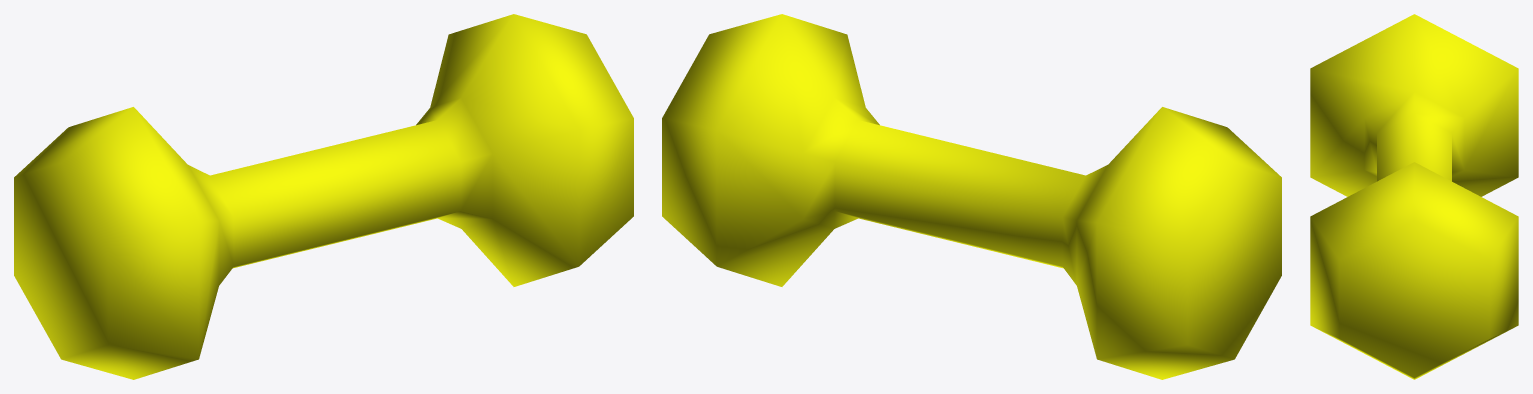
File: Weight_10.FBX
The picture shows the model from 3 angles, left to right: view 1: azimuth 30°, elevation 25°; view 2: azimuth 150°, elevation 25°; view 3: azimuth 270°, elevation 25°; orthographic projection. The views are drawn at different scales.
Parts seen in each view (by area): view 1: Weight; view 2: Weight; view 3: Weight.
Part boxes in pixels (x1,y1,x2,y2): Weight: [14, 14, 633, 379]; Weight: [662, 14, 1281, 379]; Weight: [1310, 14, 1518, 379].
Bounding box in the file's own units: 78.32 × 38.91 × 33.69.
